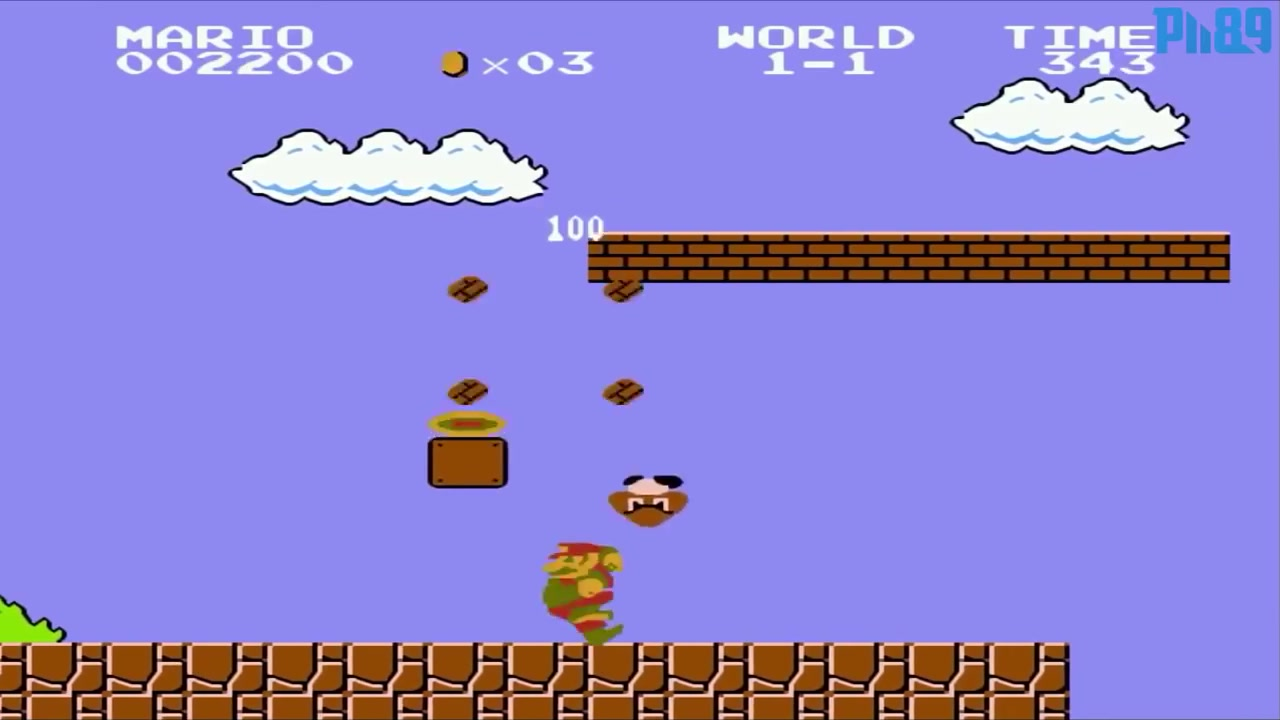mario: (535, 532, 626, 646)
